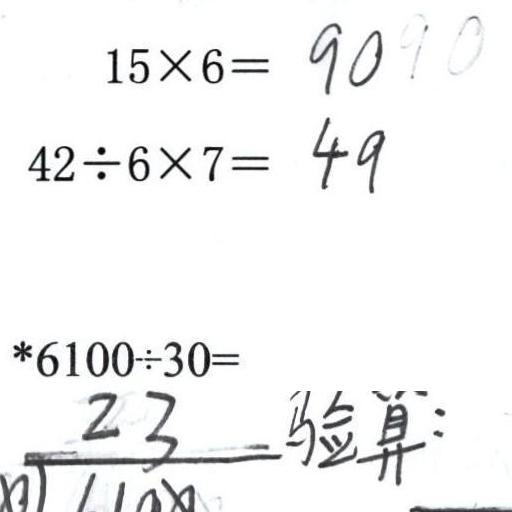ans: (307, 111, 386, 195), (304, 16, 383, 93)
